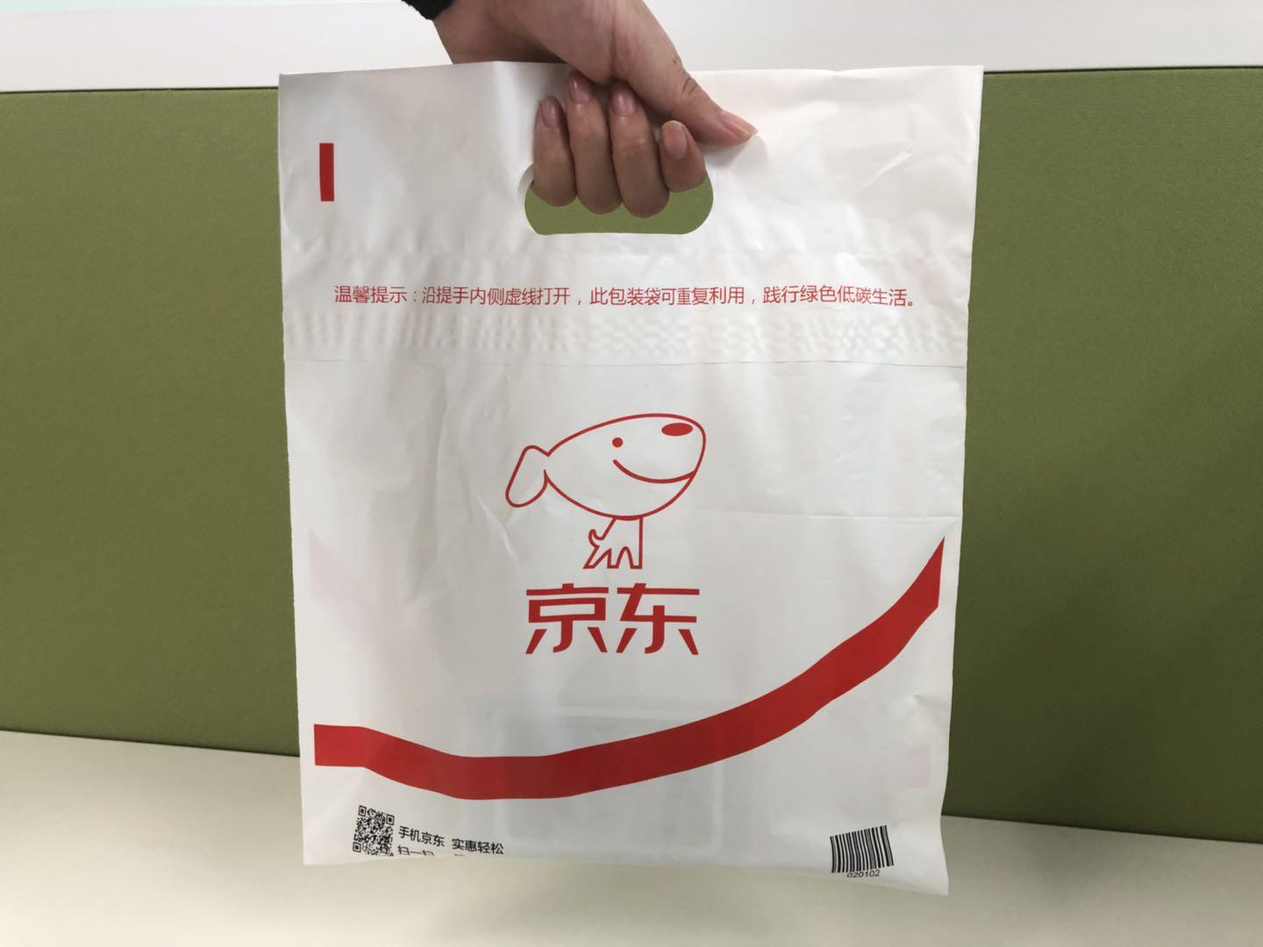塑料袋: (279, 65, 980, 890)
